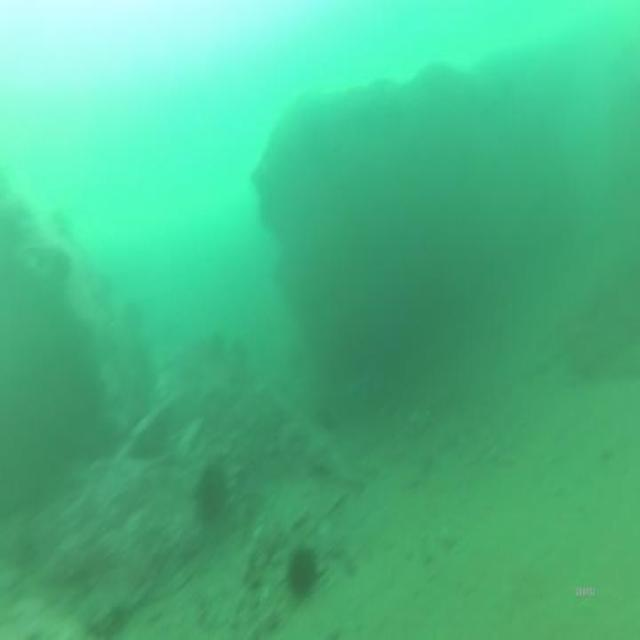echinus: (280, 534, 323, 604), (192, 455, 232, 528)
